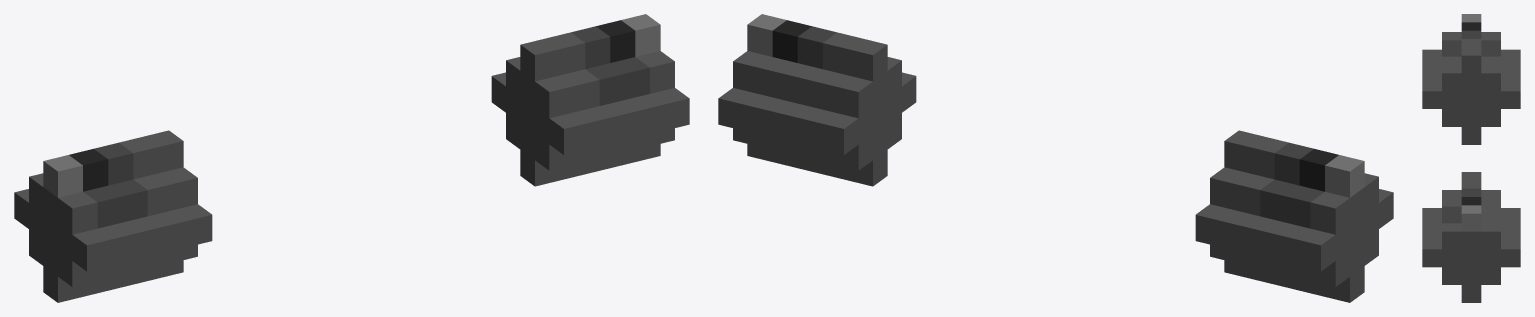
Rendered from character upper arm modeling.obj.
The picture shows the model from 3 angles, left to right: view 1: azimuth 30°, elevation 25°; view 2: azimuth 150°, elevation 25°; view 3: azimuth 270°, elevation 25°; orthographic projection. The views are drawn at different scales.
Bounding box in the file's own units: 2.4 × 0.5 × 0.5.
1 material, 1 textured.
